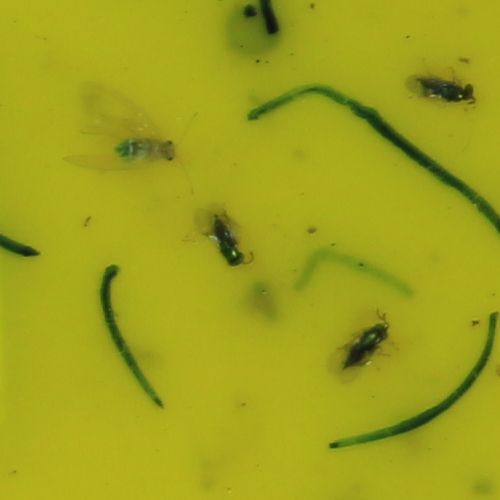psylla: (114, 135, 179, 162)
wasp: (343, 320, 392, 371), (413, 72, 480, 105), (212, 215, 249, 271)
